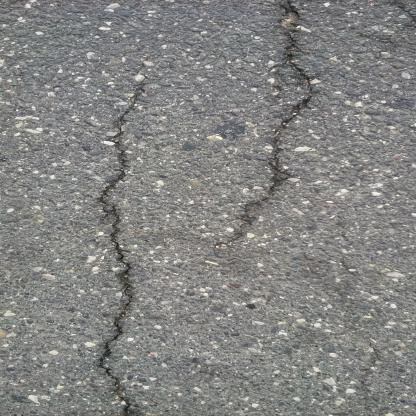Cracks: (74, 80, 161, 416), (230, 0, 325, 246)
